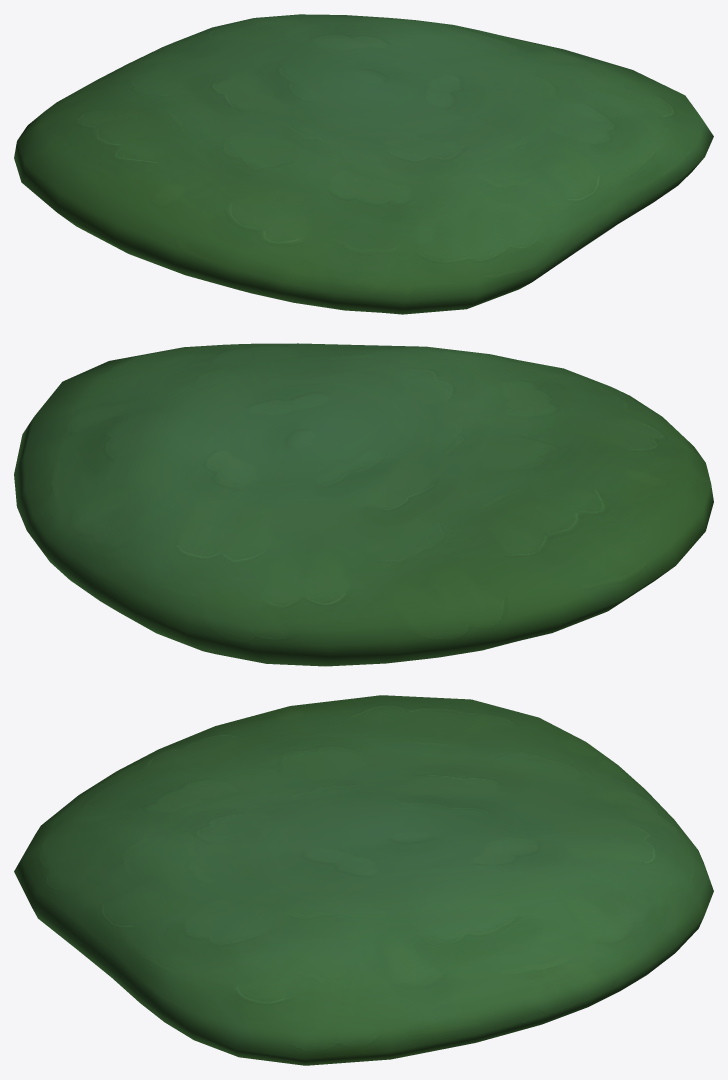
The model's file is OakTree_Stand.fbx.
The picture shows the model from 3 angles, top to bottom: view 1: azimuth 30°, elevation 25°; view 2: azimuth 150°, elevation 25°; view 3: azimuth 270°, elevation 25°; orthographic projection. The views are drawn at different scales.
Visible parts, largest first — view 1: Cube.000; view 2: Cube.000; view 3: Cube.000.
Boxes of the visible parts, <box> form: Cube.000: <box>14,14,713,314</box>; Cube.000: <box>14,343,713,666</box>; Cube.000: <box>14,695,713,1065</box>.
Bounding box in the file's own units: 38.5 × 6.83 × 35.25.
